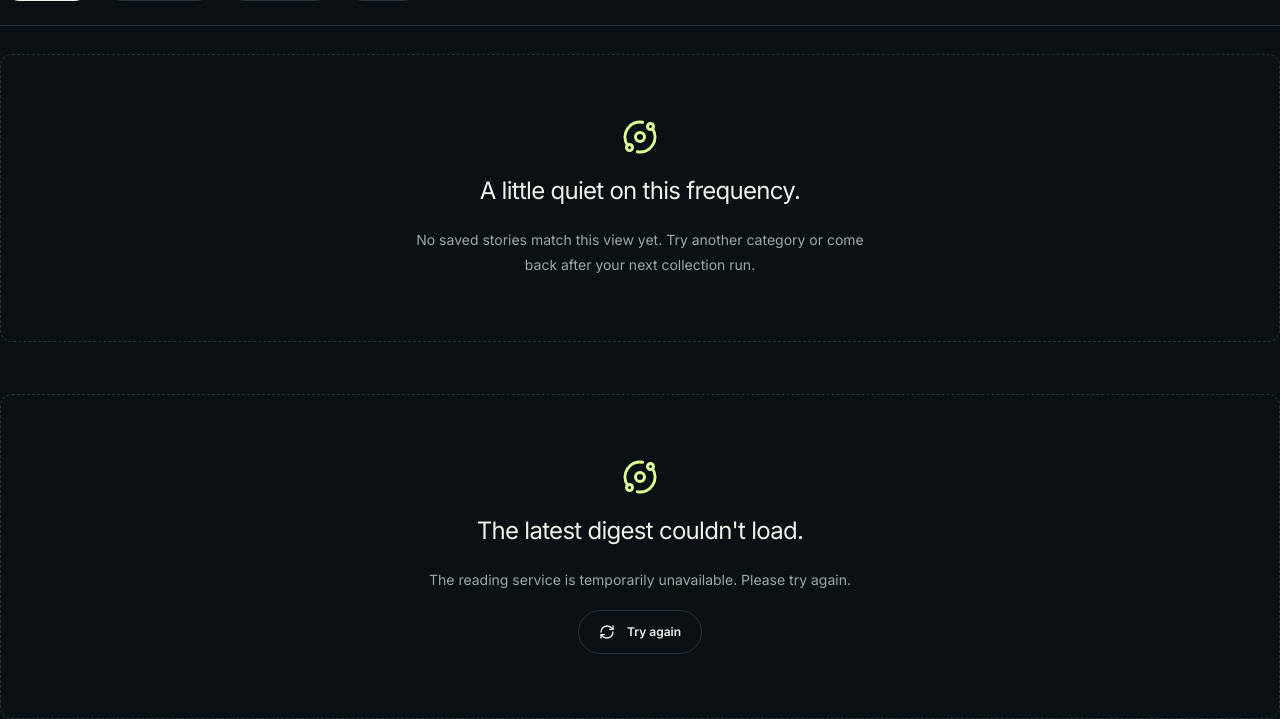
Test: distinguishes an empty latest digest from an unavailable service
This screenshot has width=1280, height=719.
(page scrolled)
Expected: the heading "The latest digest couldn't load." is shown, [477, 513, 803, 549]
Expected: the text "Your first edition is still ahead" is not shown
Click the button "Try again" at {"x": 640, "y": 632}, box [578, 610, 702, 654]
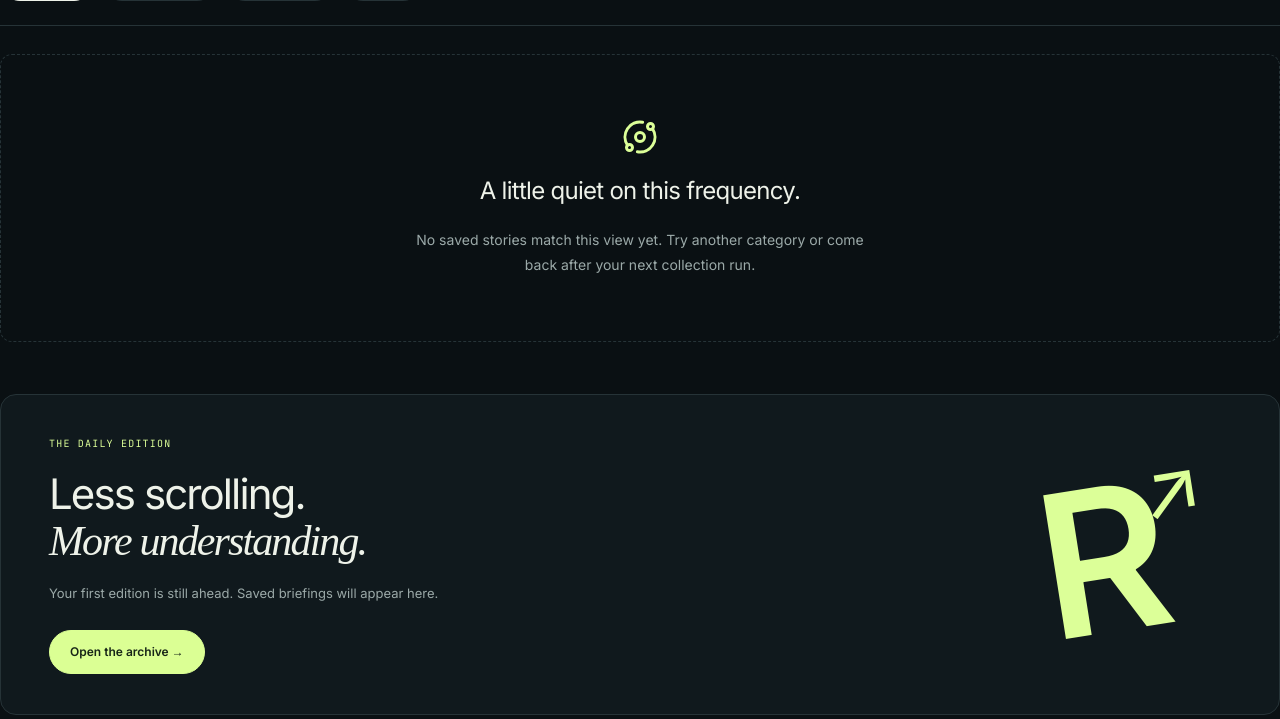
Expected: the text "Your first edition is still ahead" is shown, [49, 586, 438, 602]
